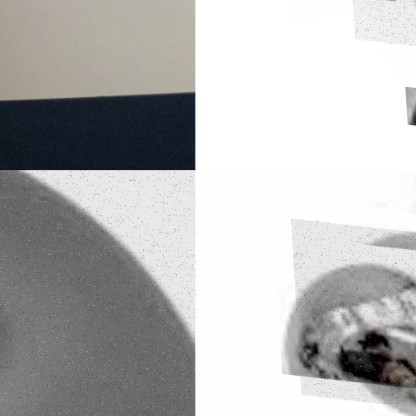ironball: (0, 170, 195, 415), (289, 211, 415, 402)
